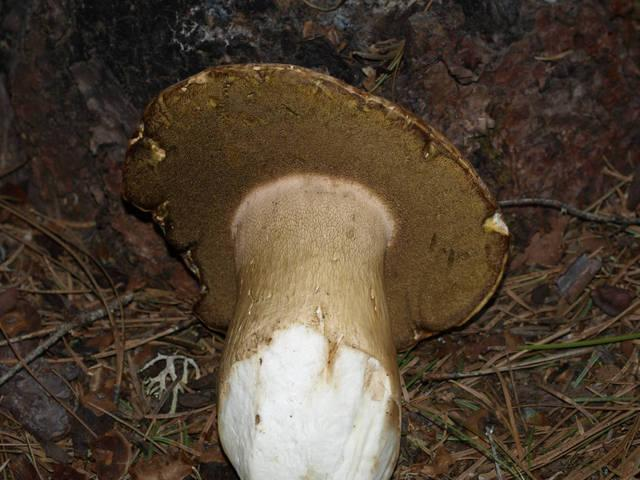edible_mushroom: (120, 60, 511, 479)
